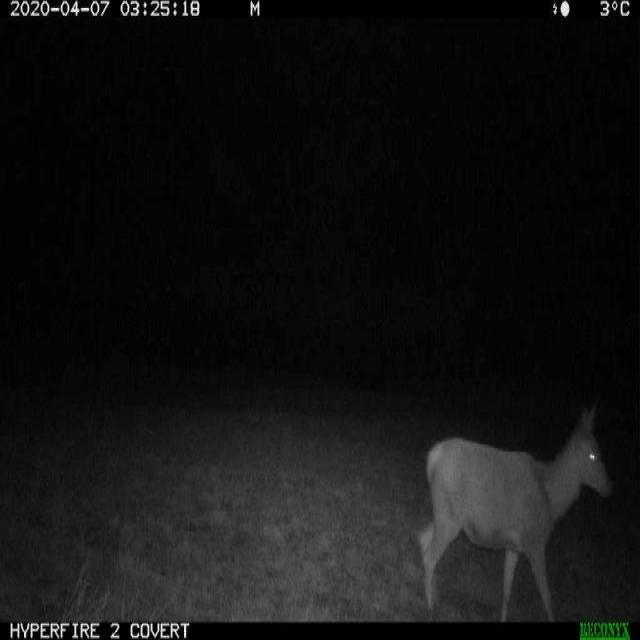deer: (400, 385, 620, 624)
